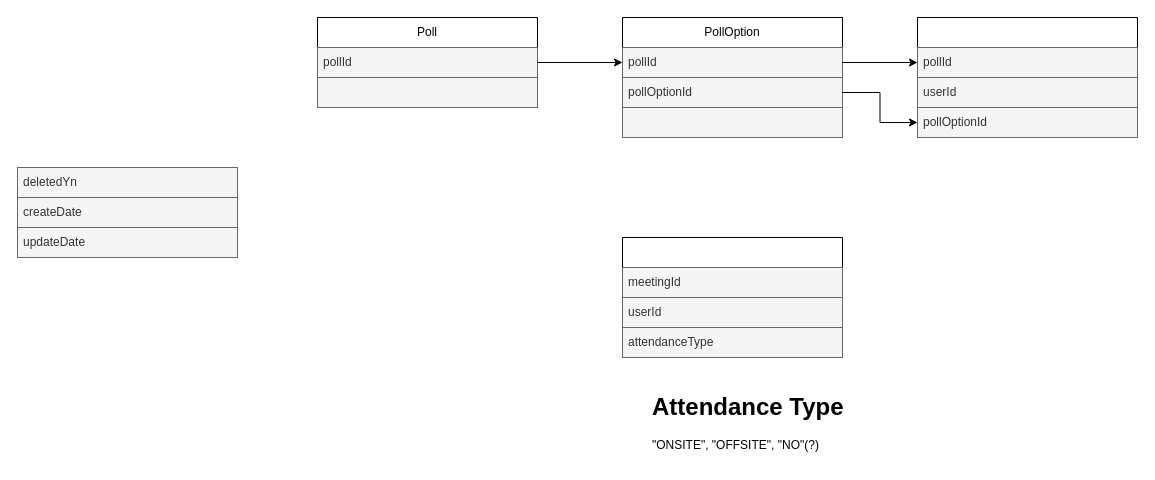
This 1155x480 diagram has some shape labels left out. The box of each missing label's shape, as (x1, y1, x2, y2) in pixels:
AttendanceResult: (622, 236, 842, 358)
optionContent: (622, 106, 842, 138)
PollResult: (916, 16, 1138, 138)
title: (316, 76, 538, 108)
